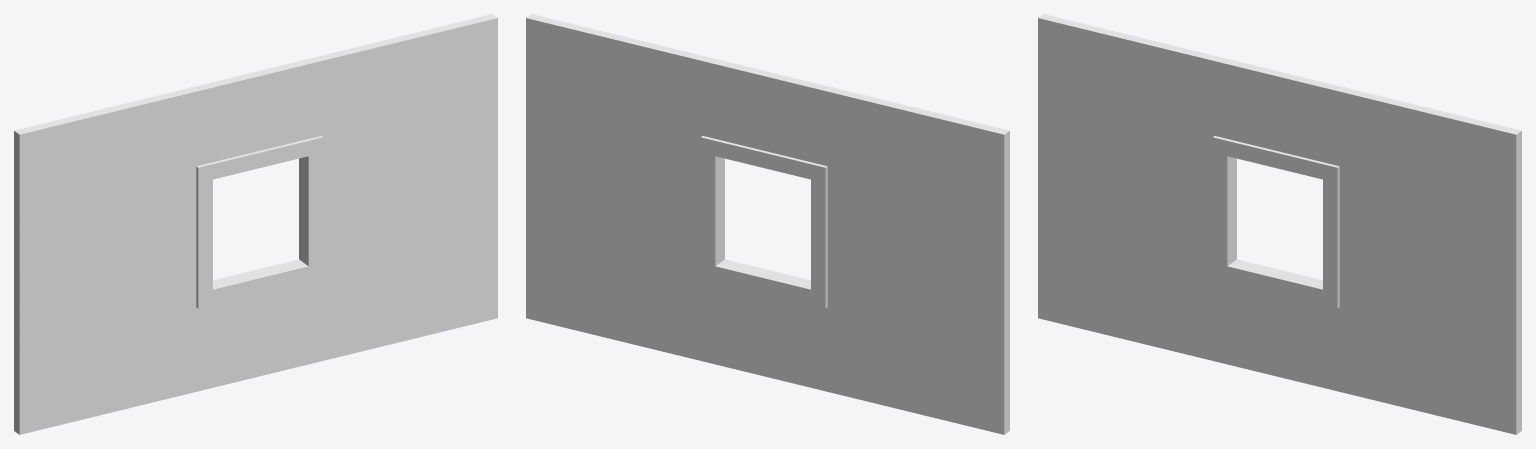
File: SM_Buildings_WallWindow_5x3_01.glb
3 renders of one model, left to right at view 1: azimuth 30°, elevation 25°; view 2: azimuth 150°, elevation 25°; view 3: azimuth 330°, elevation 25°, orthographic.
Visible parts, largest first — view 1: SM_Buildings_WallWindow_5x3_01; view 2: SM_Buildings_WallWindow_5x3_01; view 3: SM_Buildings_WallWindow_5x3_01.
Boxes of the visible parts, box(x1,y1,x2,y2) form: SM_Buildings_WallWindow_5x3_01: box(14, 14, 497, 434); SM_Buildings_WallWindow_5x3_01: box(526, 14, 1009, 434); SM_Buildings_WallWindow_5x3_01: box(1038, 14, 1521, 434).
Bounding box in the file's own units: 5 × 3 × 0.1729.
1 material, 1 textured.
